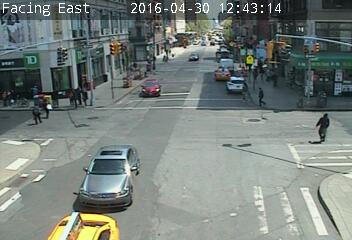neg: (243, 160, 275, 203), (311, 195, 343, 238), (4, 2, 36, 44), (288, 15, 317, 54), (62, 3, 89, 39), (183, 48, 210, 83), (62, 186, 88, 220), (190, 128, 215, 161), (288, 195, 310, 225), (150, 177, 172, 206), (100, 139, 121, 167), (210, 56, 230, 83), (138, 94, 158, 120), (16, 160, 34, 185), (154, 36, 165, 51)
pos: (315, 109, 341, 144), (250, 83, 270, 110), (27, 102, 45, 126), (38, 97, 56, 120), (75, 84, 93, 107), (63, 88, 78, 109), (132, 61, 139, 71)
